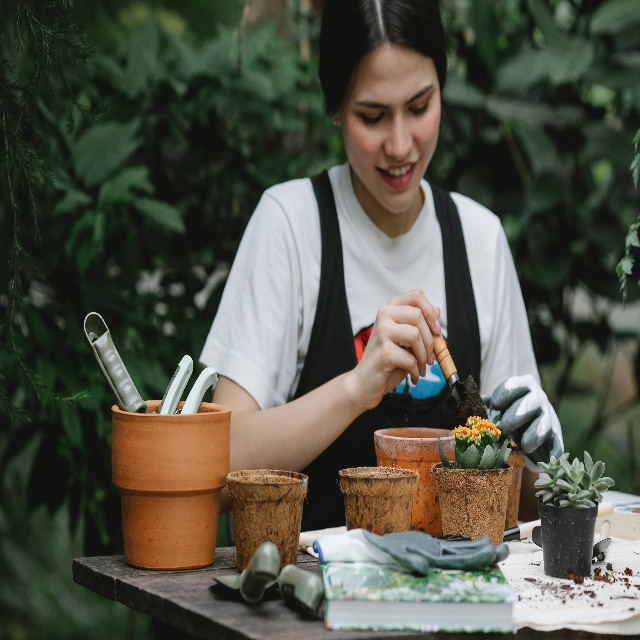Guantes: (312, 528, 510, 578), (480, 374, 564, 460)
Sin_guantes: (354, 290, 441, 410)
